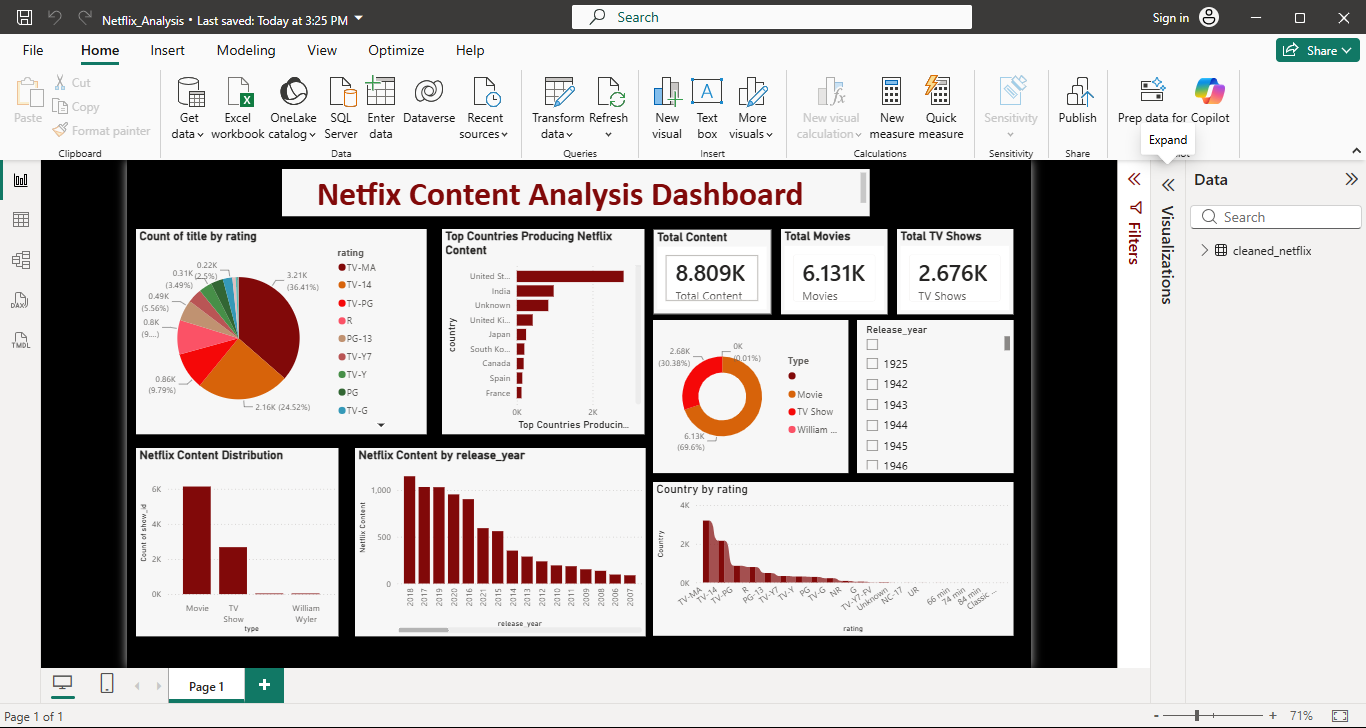

What the dashboard file says about the page in this screenshot:
{"tool":"powerbi","page":{"name":"Page 1","canvas":[1280,720],"ordinal":0},"visuals":[{"type":"clusteredColumnChart","title":"Netflix Content Distribution","fields":{"Category":["cleaned_netflix.type"],"Y":["CountNonNull(cleaned_netflix.show_id)"]},"box":[13.4,408.2,287.2,267.1],"z":0},{"type":"clusteredColumnChart","fields":{"Category":["cleaned_netflix.release_year"],"Y":["CountNonNull(cleaned_netflix.show_id)"]},"box":[322.5,408.2,411.5,267.1],"z":1000},{"type":"clusteredBarChart","title":"Top Countries Producing Netflix Content","fields":{"Category":["cleaned_netflix.country"],"Y":["CountNonNull(cleaned_netflix.show_id)"]},"box":[446.8,97.4,287.2,290.6],"z":2000},{"type":"donutChart","fields":{"Category":["cleaned_netflix.type"],"Y":["CountNonNull(cleaned_netflix.listed_in)"]},"box":[745.8,226.8,277.2,216.7],"z":3000},{"type":"slicer","fields":{"Values":["cleaned_netflix.release_year"]},"box":[1034.8,226.8,221.7,216.7],"z":4000},{"type":"cardVisual","title":"Total Content","fields":{"Data":["Count(cleaned_netflix.show_id)"]},"box":[745.8,97.4,168,120.9],"z":5000},{"type":"cardVisual","title":"Total Movies","fields":{"Data":["CountNonNull(cleaned_netflix.show_id)"]},"box":[927.2,97.4,151.2,120.9],"z":6000},{"type":"cardVisual","title":"Total TV Shows","fields":{"Data":["CountNonNull(cleaned_netflix.show_id)"]},"box":[1091.9,97.4,164.6,120.9],"z":7000},{"type":"textbox","box":[220.1,13.4,833.2,67.2],"z":8000},{"type":"pieChart","fields":{"Category":["cleaned_netflix.rating"],"Y":["CountNonNull(cleaned_netflix.title)"]},"box":[13.4,97.4,411.5,290.6],"z":9000},{"type":"ribbonChart","fields":{"Y":["CountNonNull(cleaned_netflix.country)"],"Category":["cleaned_netflix.rating"]},"box":[745.8,456.9,510.7,218.4],"z":9001}]}

Visuals, with their boxes on the page's 1280x720 design canvas (x1, y1, x2, y2). These are canvas units, not pixel positions in the 1366x728 screenshot, which may show the page scaled, cropped or inside an application window:
"Netflix Content Distribution" clusteredColumnChart: detection(13, 408, 301, 675)
clusteredColumnChart - cleaned_netflix.release_year x CountNonNull(cleaned_netflix.show_id): detection(322, 408, 734, 675)
"Top Countries Producing Netflix Content" clusteredBarChart: detection(447, 97, 734, 388)
donutChart - cleaned_netflix.type x CountNonNull(cleaned_netflix.listed_in): detection(746, 227, 1023, 444)
slicer - cleaned_netflix.release_year: detection(1035, 227, 1256, 444)
"Total Content" cardVisual: detection(746, 97, 914, 218)
"Total Movies" cardVisual: detection(927, 97, 1078, 218)
"Total TV Shows" cardVisual: detection(1092, 97, 1256, 218)
textbox: detection(220, 13, 1053, 81)
pieChart - cleaned_netflix.rating x CountNonNull(cleaned_netflix.title): detection(13, 97, 425, 388)
ribbonChart - CountNonNull(cleaned_netflix.country) x cleaned_netflix.rating: detection(746, 457, 1256, 675)
